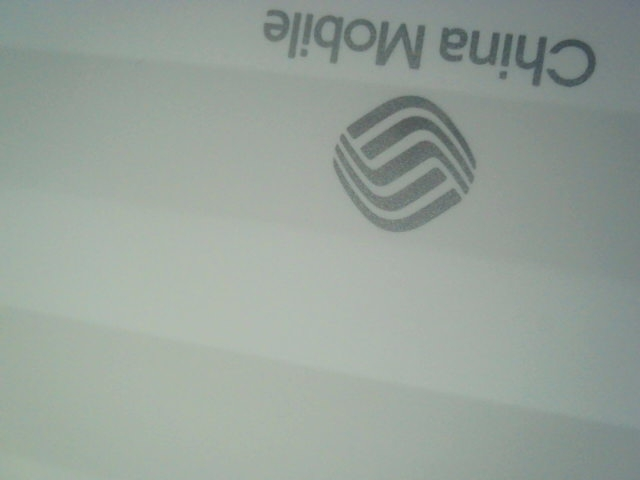AA_ChinaMobile: (253, 7, 615, 237)
